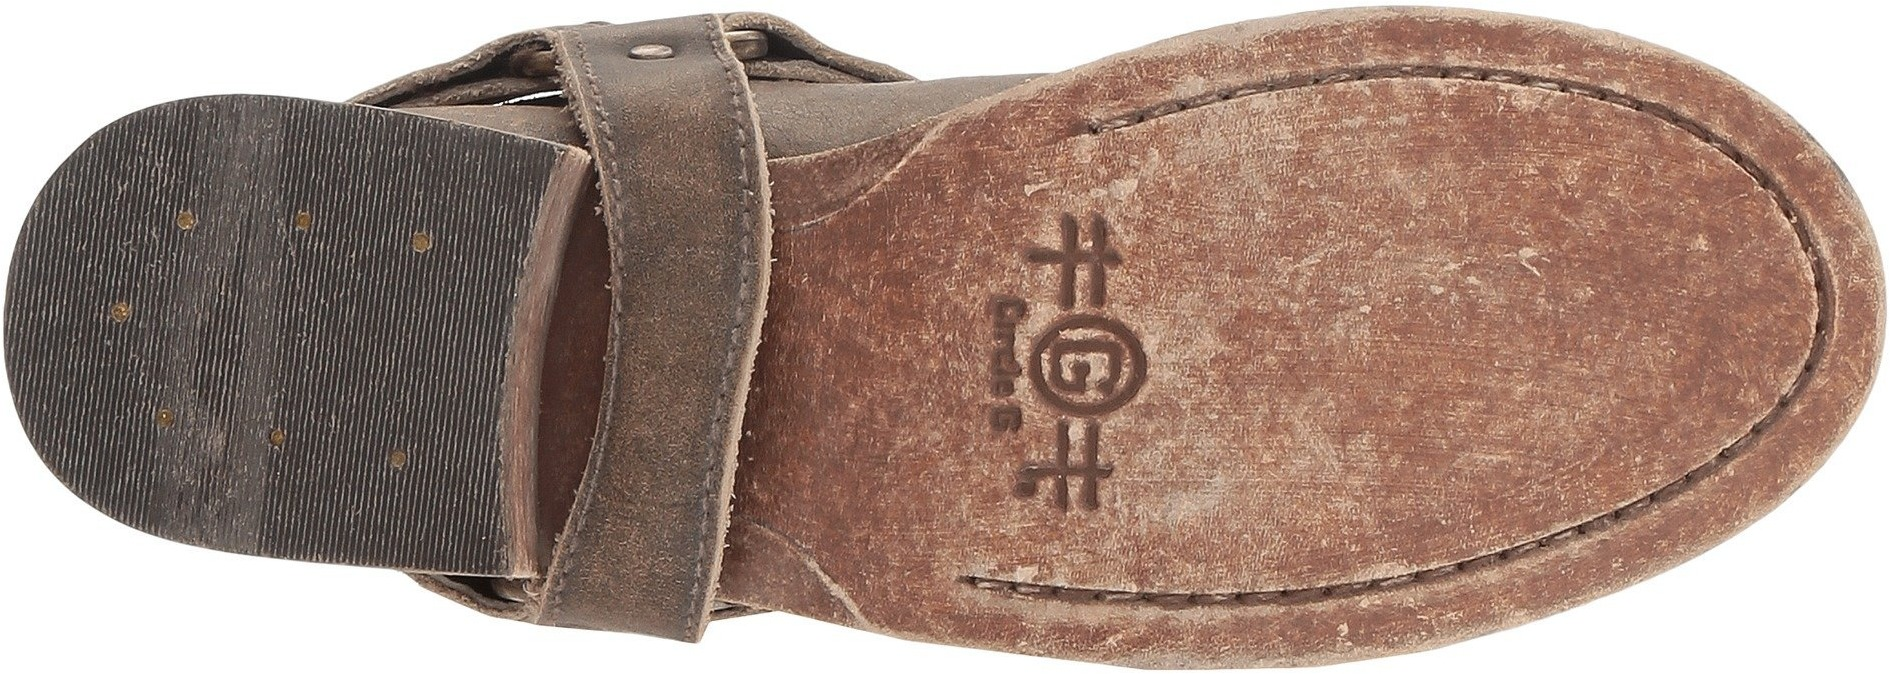exclude: (500, 109, 927, 641), (340, 1, 1076, 162), (391, 569, 815, 673)
other: (1160, 102, 1638, 526), (95, 148, 489, 508)
text: (1043, 323, 1131, 404)
